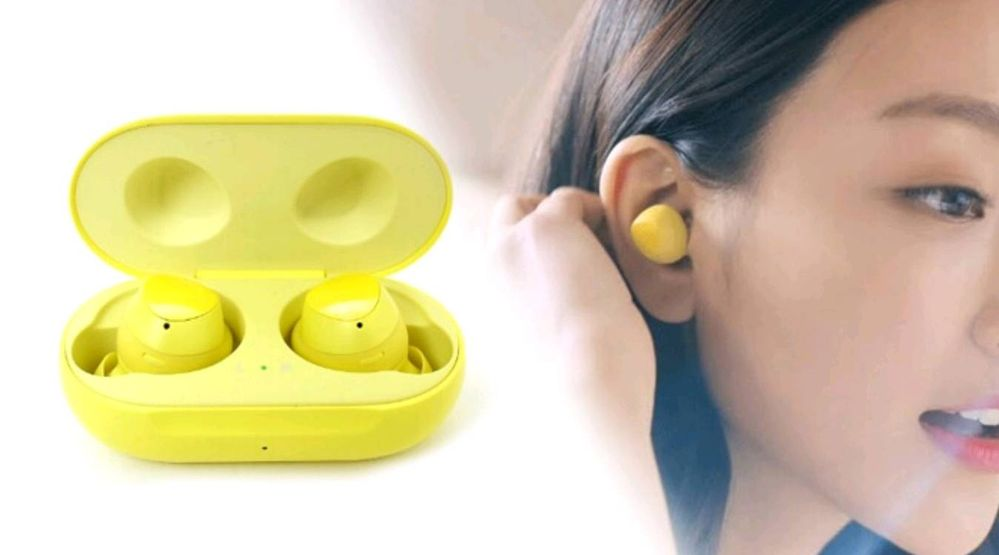earphone: (599, 135, 711, 326)
